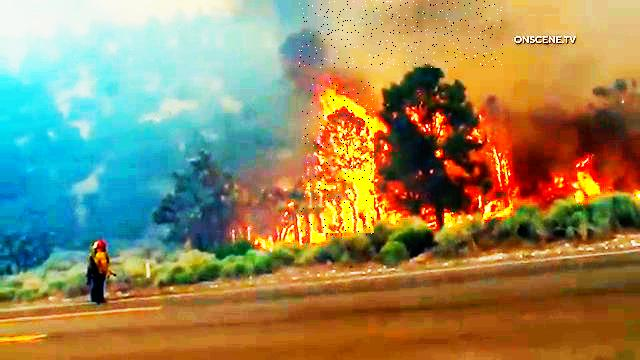fire: (301, 79, 374, 236)
smoke: (300, 0, 504, 68)
